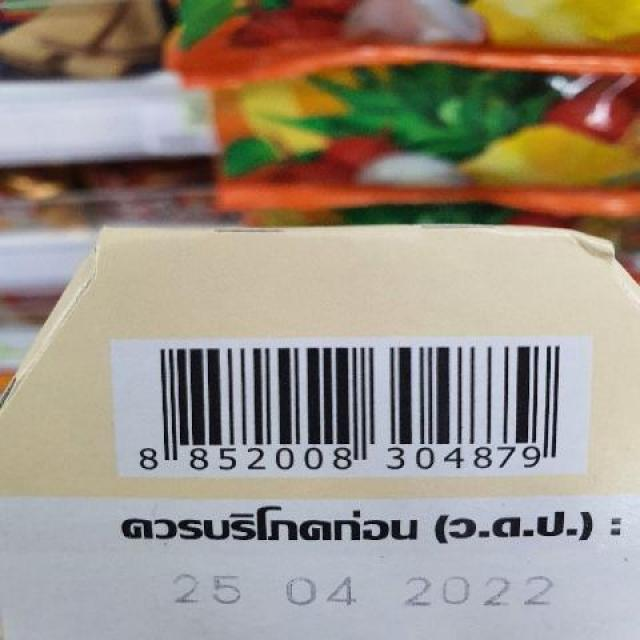Barcode: (120, 338, 584, 475)
